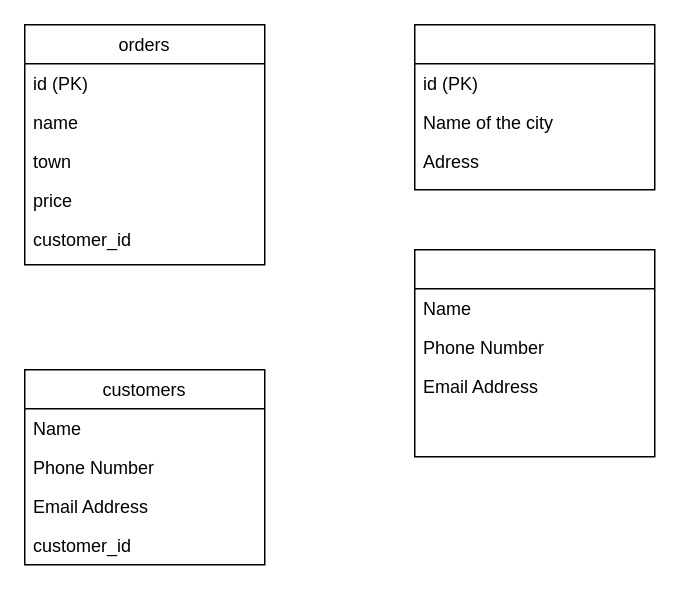
Some shapes in this 680 by 590 pixel diagram are drawn without their labels. Here are the shapes that lost their labels. From the top down, the box of each, then its label:
(413, 23, 655, 190): towns
(413, 248, 655, 457): items
